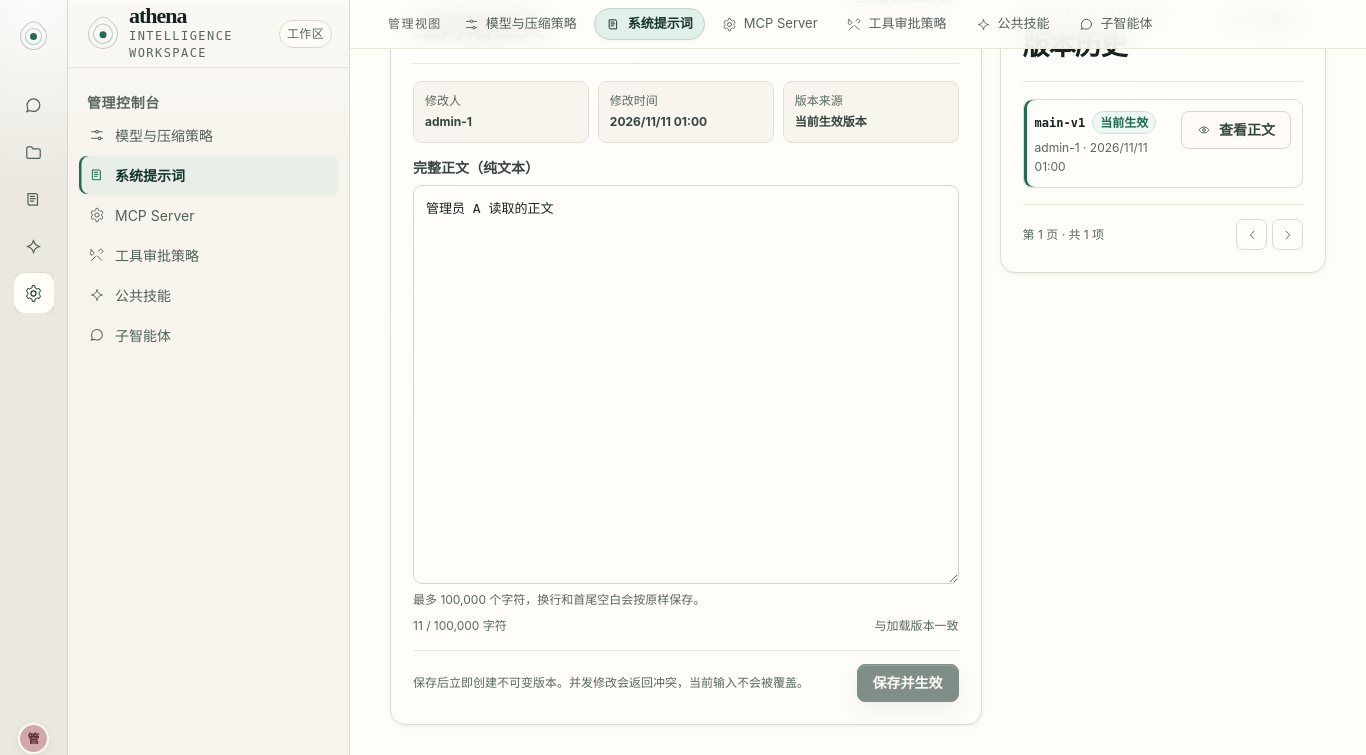
管理员系统提示词页 › 409 冲突保留输入，只有明确确认后才用服务端版本替换本地基线
The width and height of the screenshot is (1366, 755).
(page scrolled)
Replace the text in the text box labelled "完整正文（纯文本） 最多 100,000 个字符，换行和首尾空白会按原样保存。" with "必须保留的并发草稿" at (686, 384), box top-left (413, 185), bottom-right (959, 584)
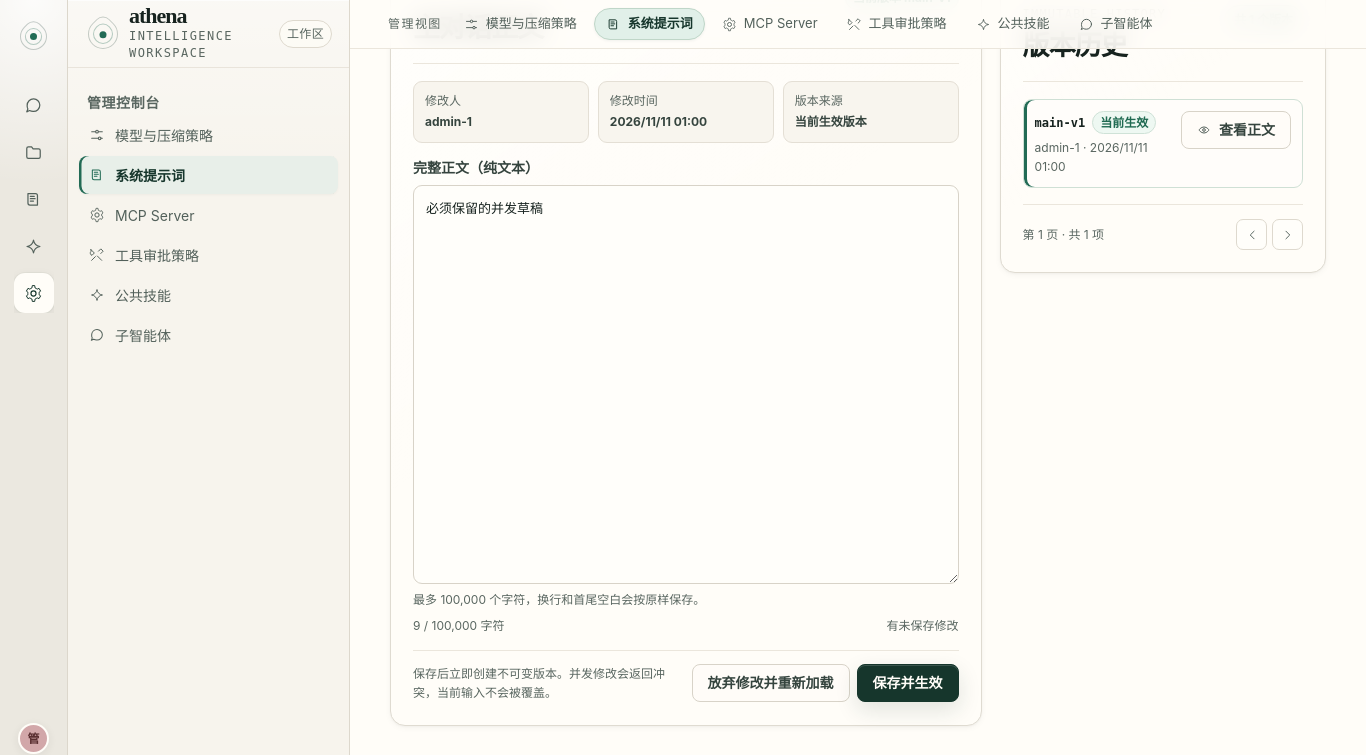
Click the button "保存并生效" at (908, 684), box top-left (857, 664), bottom-right (959, 702)
(page scrolled)
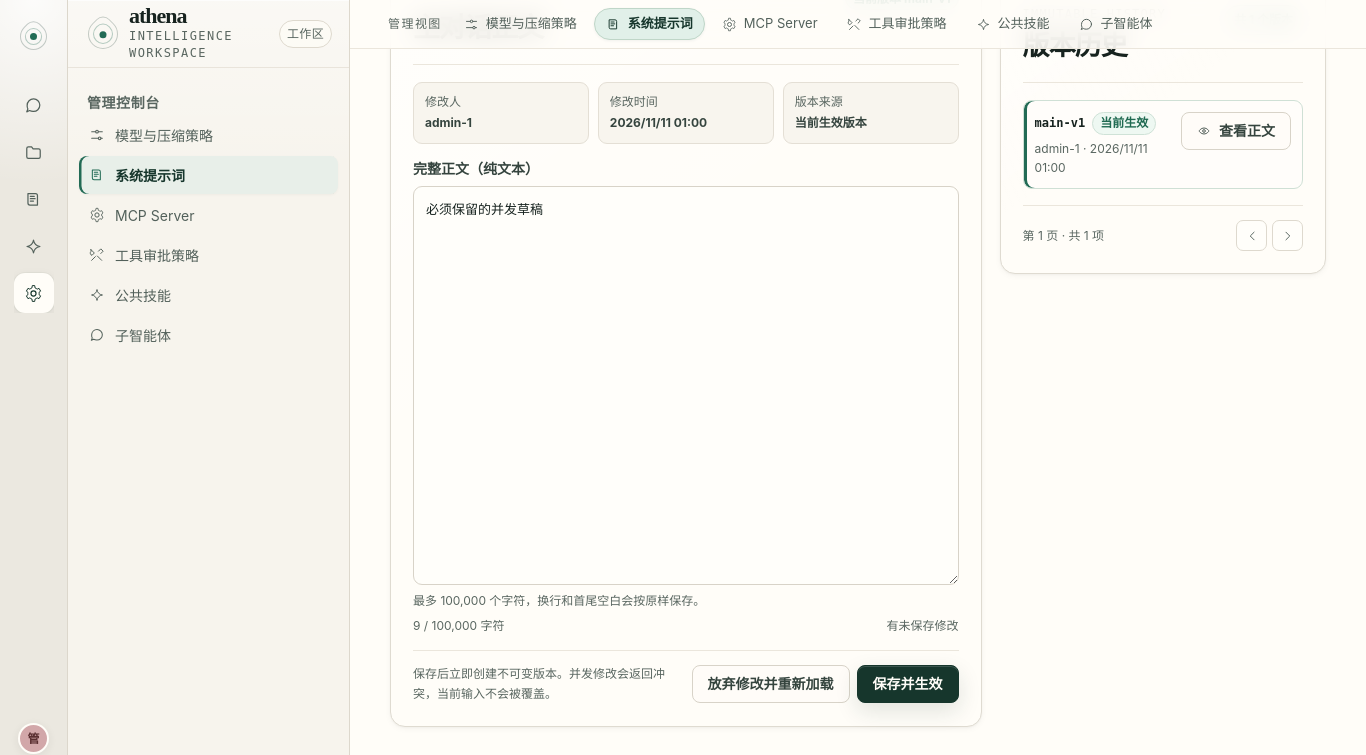
Click the button "放弃修改并重新加载" at (771, 684), box top-left (692, 665), bottom-right (850, 703)
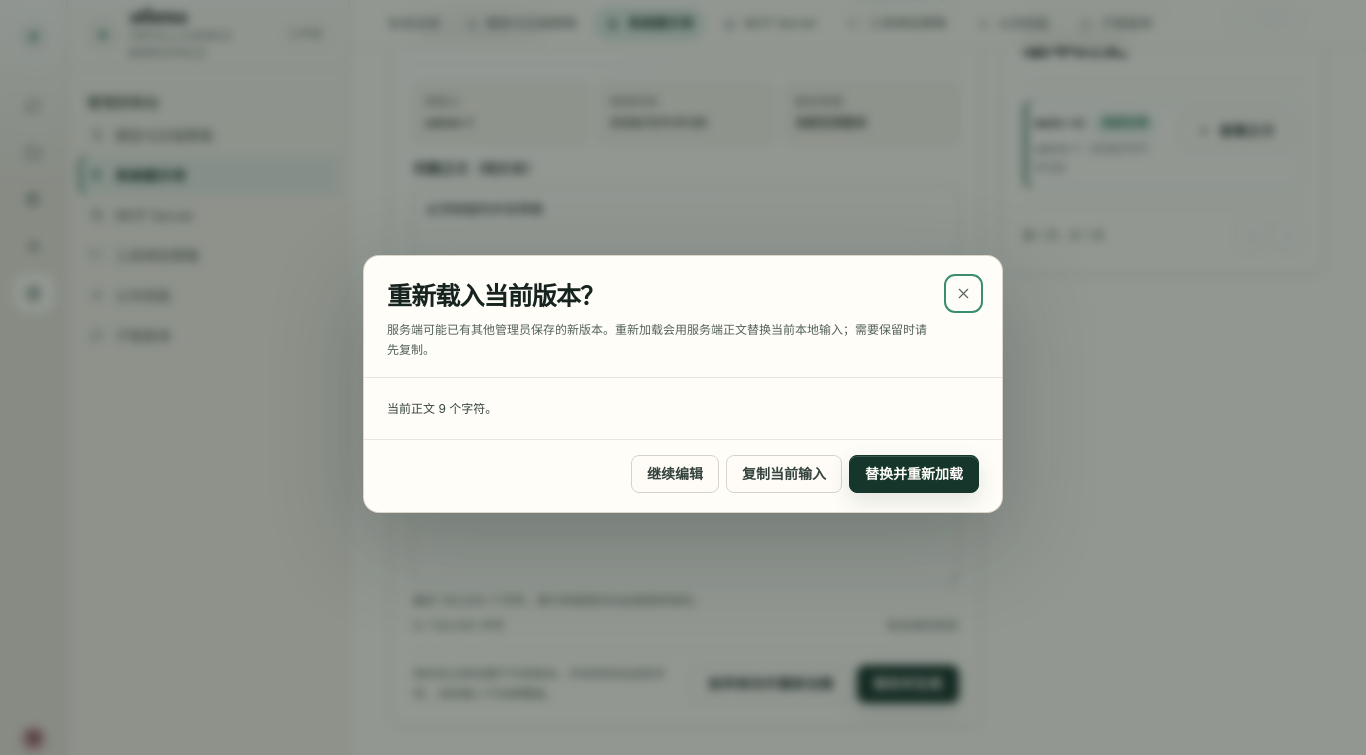
Check: the heading "重新载入当前版本？" is shown, box top-left (387, 283), bottom-right (604, 310)
Check: the text "服务端可能已有其他管理员保存的新版本。重新加载会用服务端正文替换当前本地输入；需要保留时请先复制。" is shown, box top-left (387, 320), bottom-right (928, 360)
Check: the button "复制当前输入" is shown, box top-left (726, 455), bottom-right (842, 493)
Click the button "替换并重新加载" at (914, 474), box top-left (849, 455), bottom-right (979, 493)
(page scrolled)
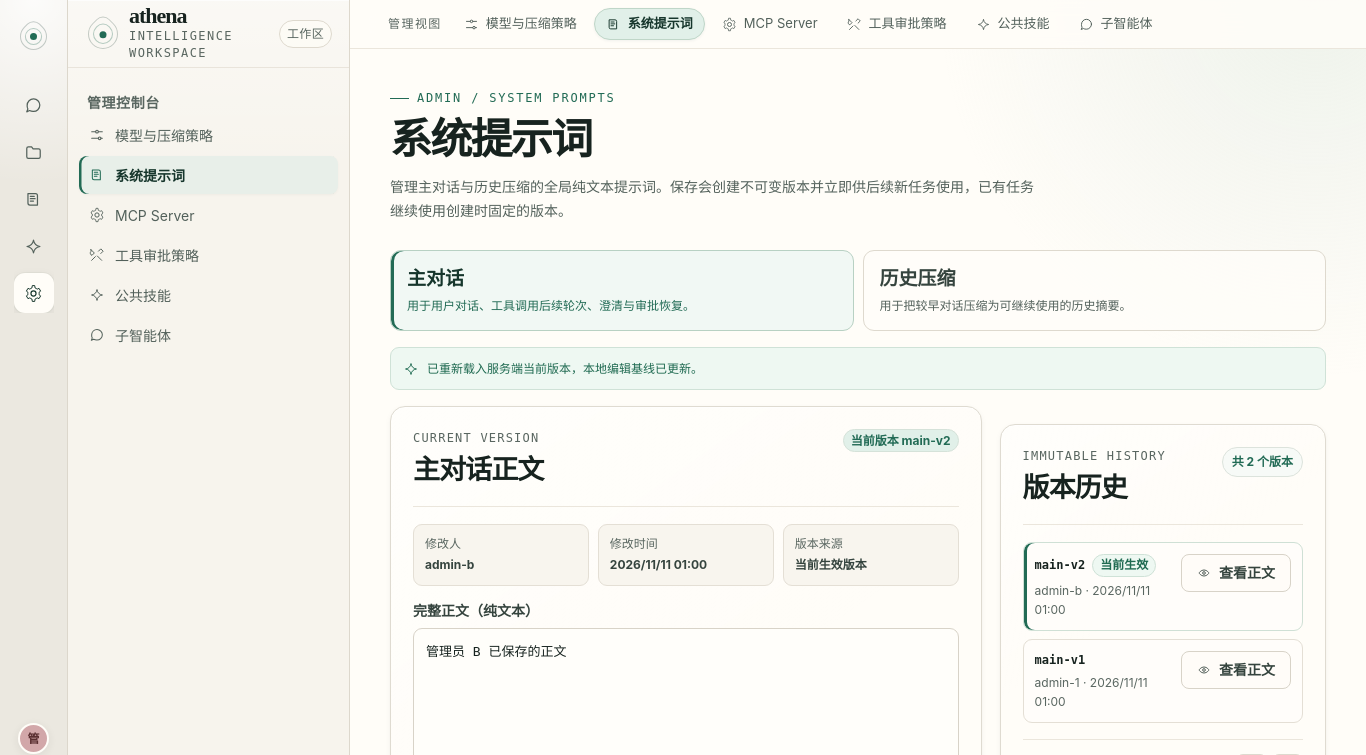
Check: the text "已重新载入服务端当前版本，本地编辑基线已更新。" is shown, box top-left (427, 359), bottom-right (703, 378)
